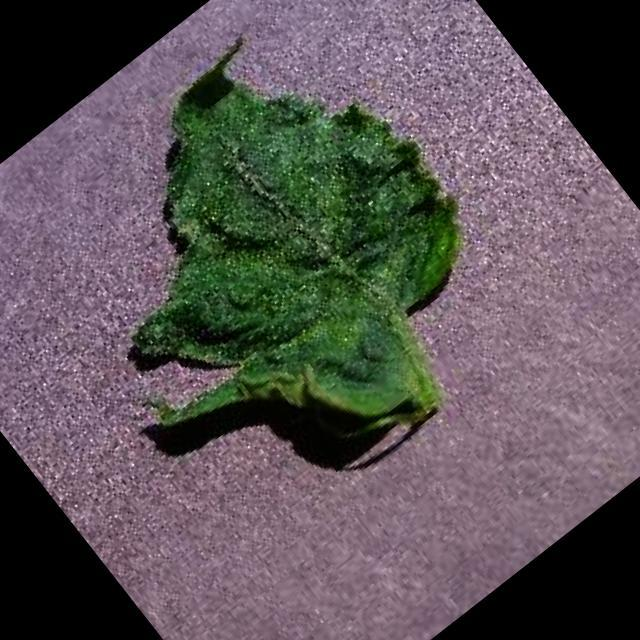Tomato mosaic virus leaf: (0, 0, 543, 535)
